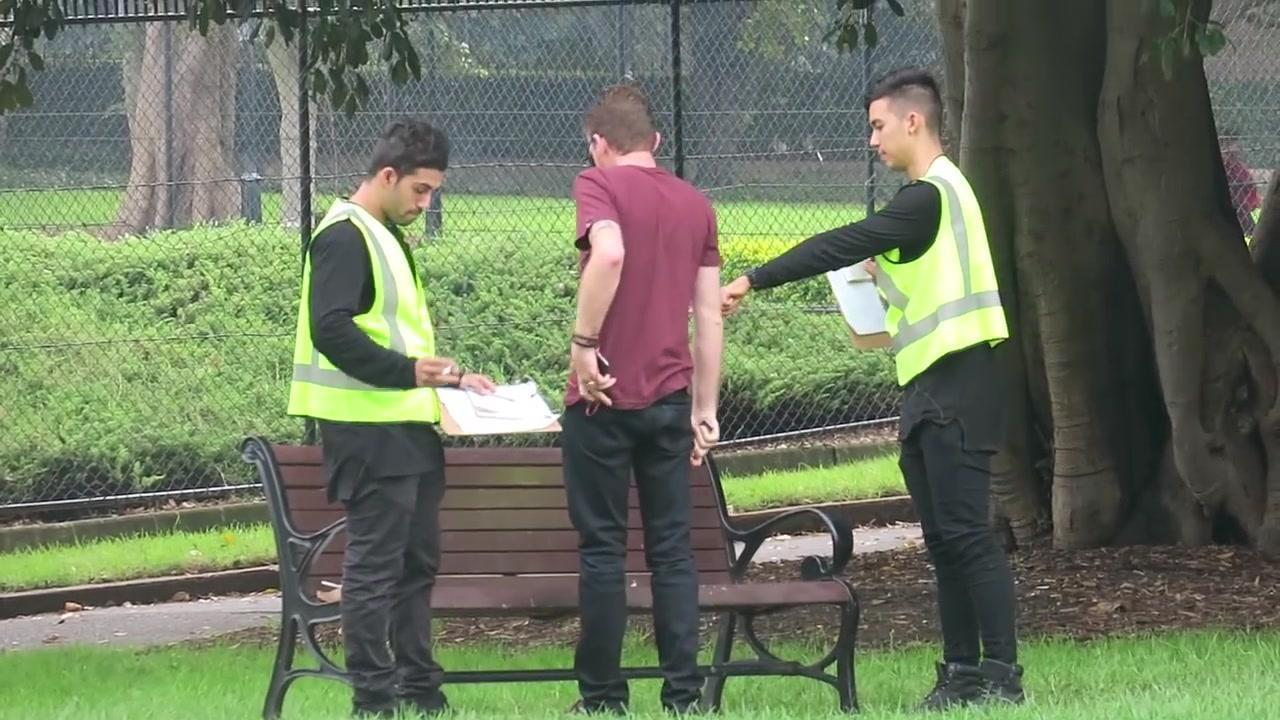vest: (284, 192, 440, 428), (875, 157, 1010, 387)
